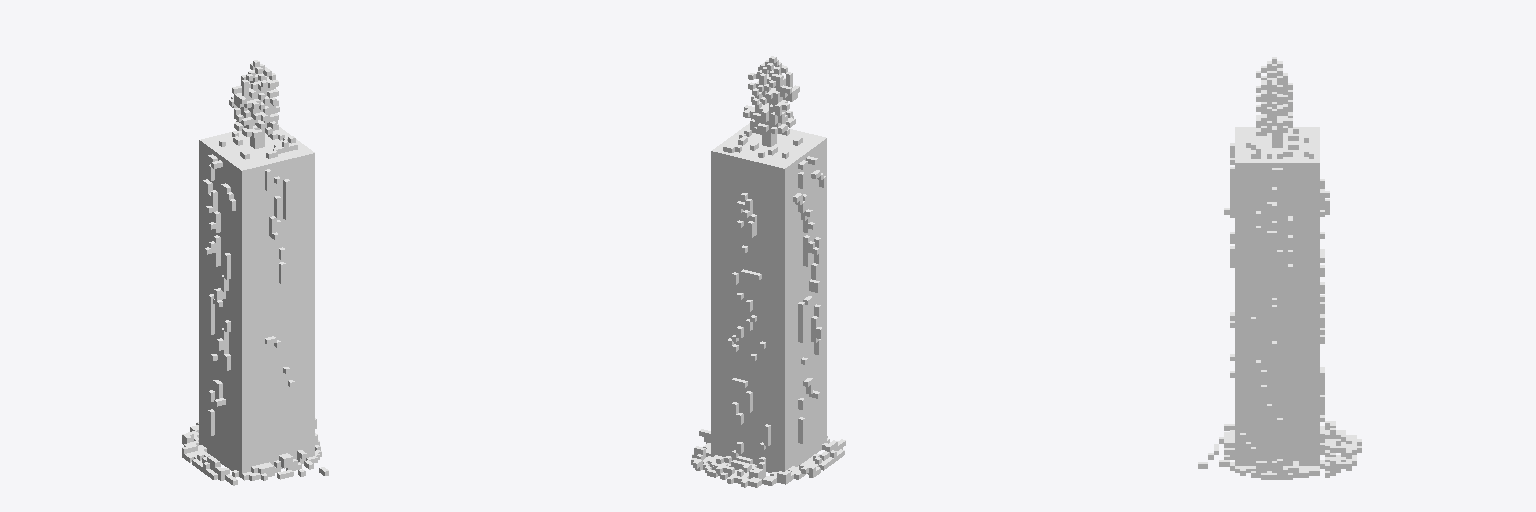
File: svecha.obj
3 views of the same model, side by side, from view 1: azimuth 30°, elevation 25°; view 2: azimuth 150°, elevation 25°; view 3: azimuth 270°, elevation 25° (orthographic).
Bounding box in the file's own units: 26 × 82 × 31.